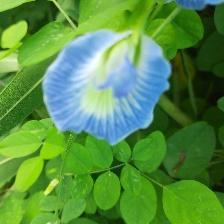shankupushpam: (42, 28, 178, 148)
